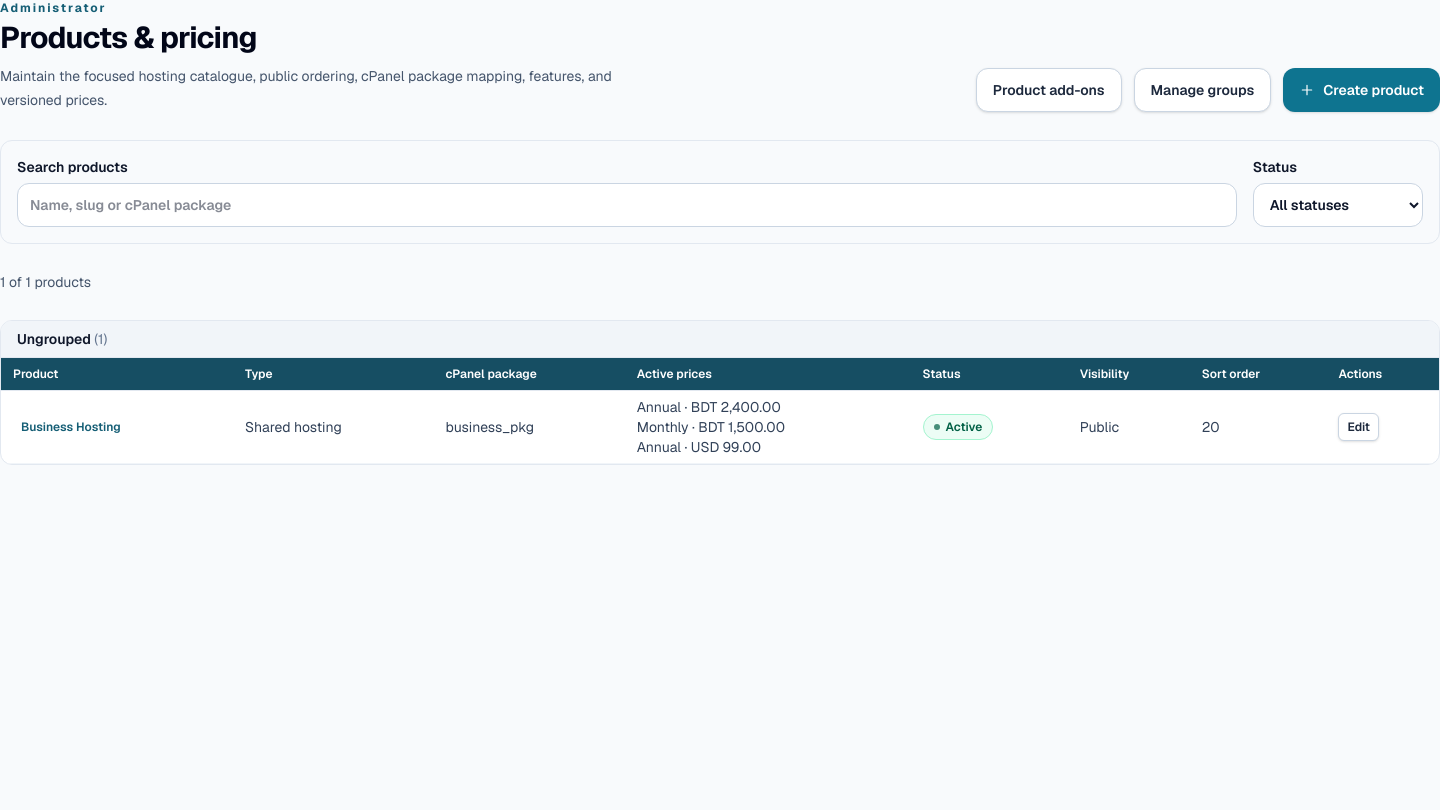
Test: product and pricing interfaces › loads active prices by period and currency without reusing retired or unmatched prices
The image size is (1440, 810).
Click the button "Business Hosting".
click(71, 427)  # box [13,413,129,441]
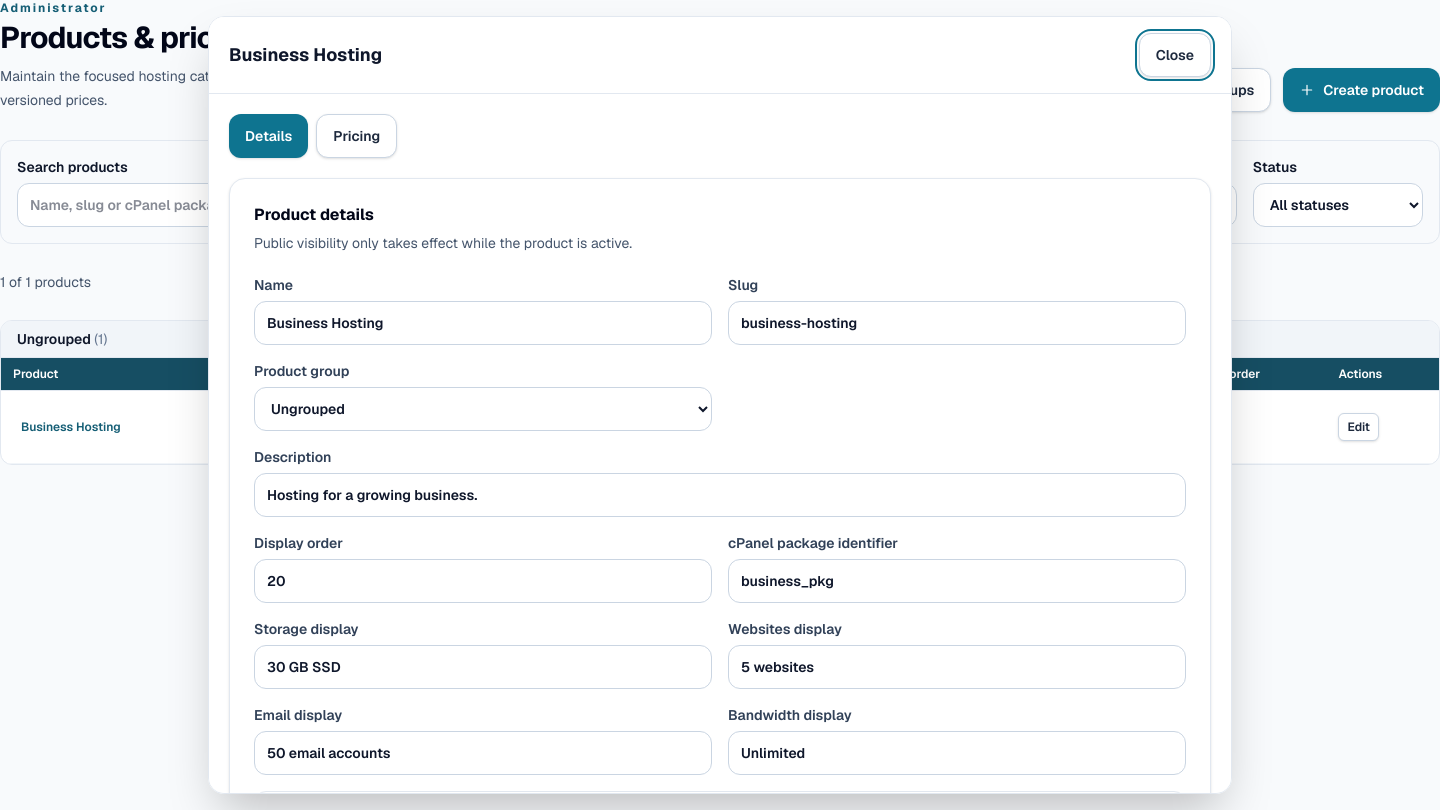
Click the button "Pricing".
click(357, 136)  # box [316,114,397,158]
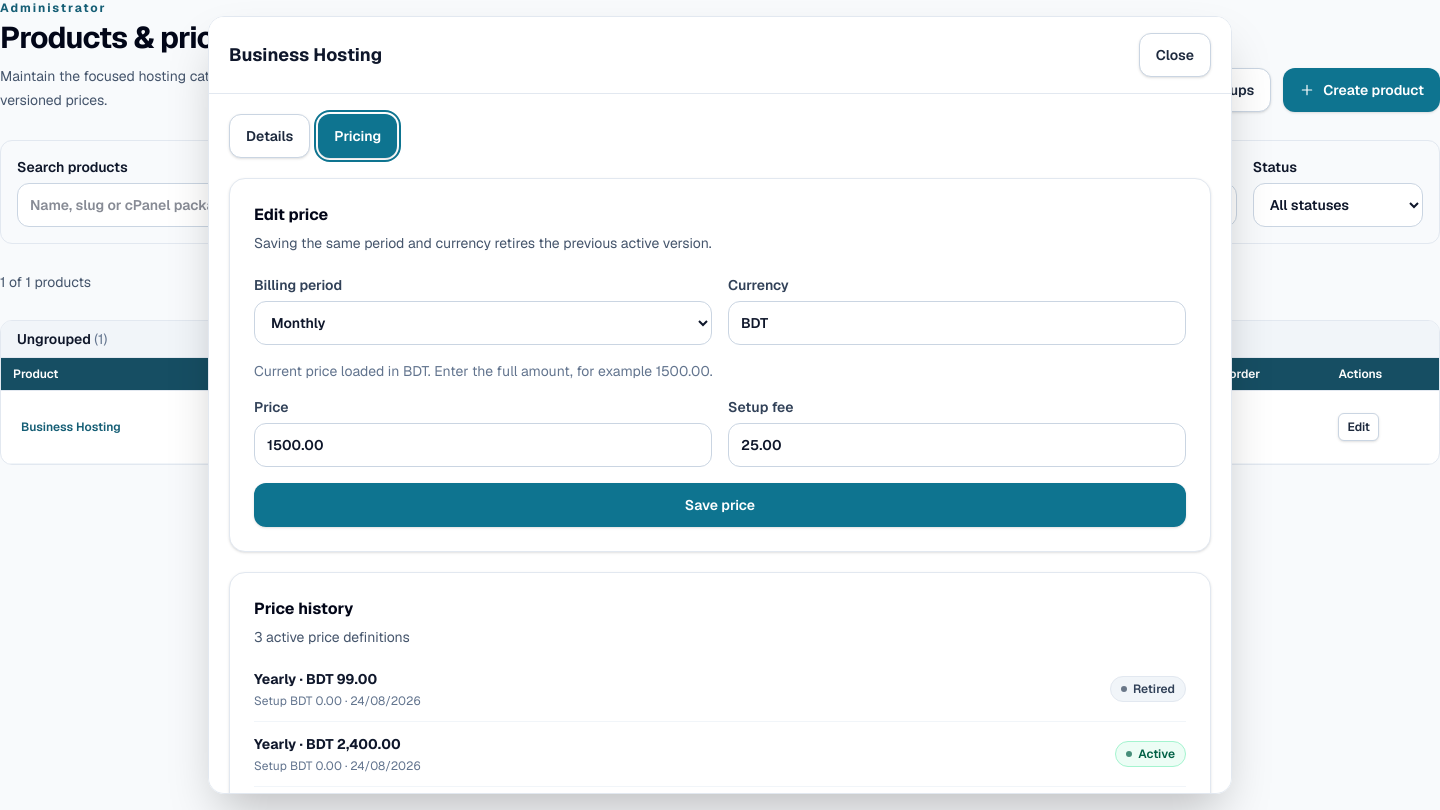
Result: the field labelled "Price" holds "1500.00" at [254,423,712,467]
Result: the field labelled "Setup fee" holds "25.00" at [728,423,1186,467]
Select "Yearly" in the dropdown labelled "Billing period" at (483, 323), box [254,301,712,345]
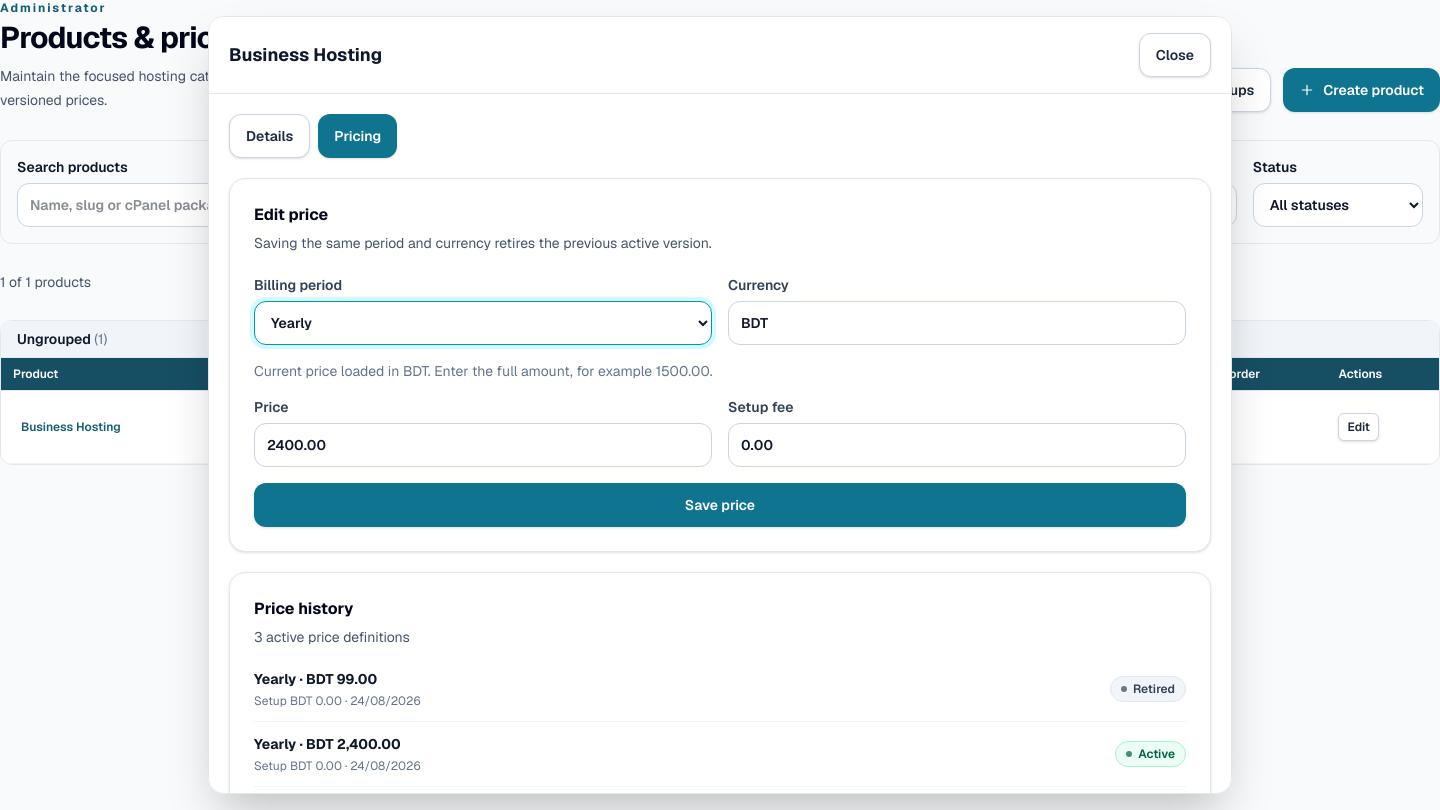
Result: the field labelled "Price" holds "2400.00" at [254,423,712,467]
Replace the text in the field labelled "Currency" with "USD" at (957, 323), box [728,301,1186,345]
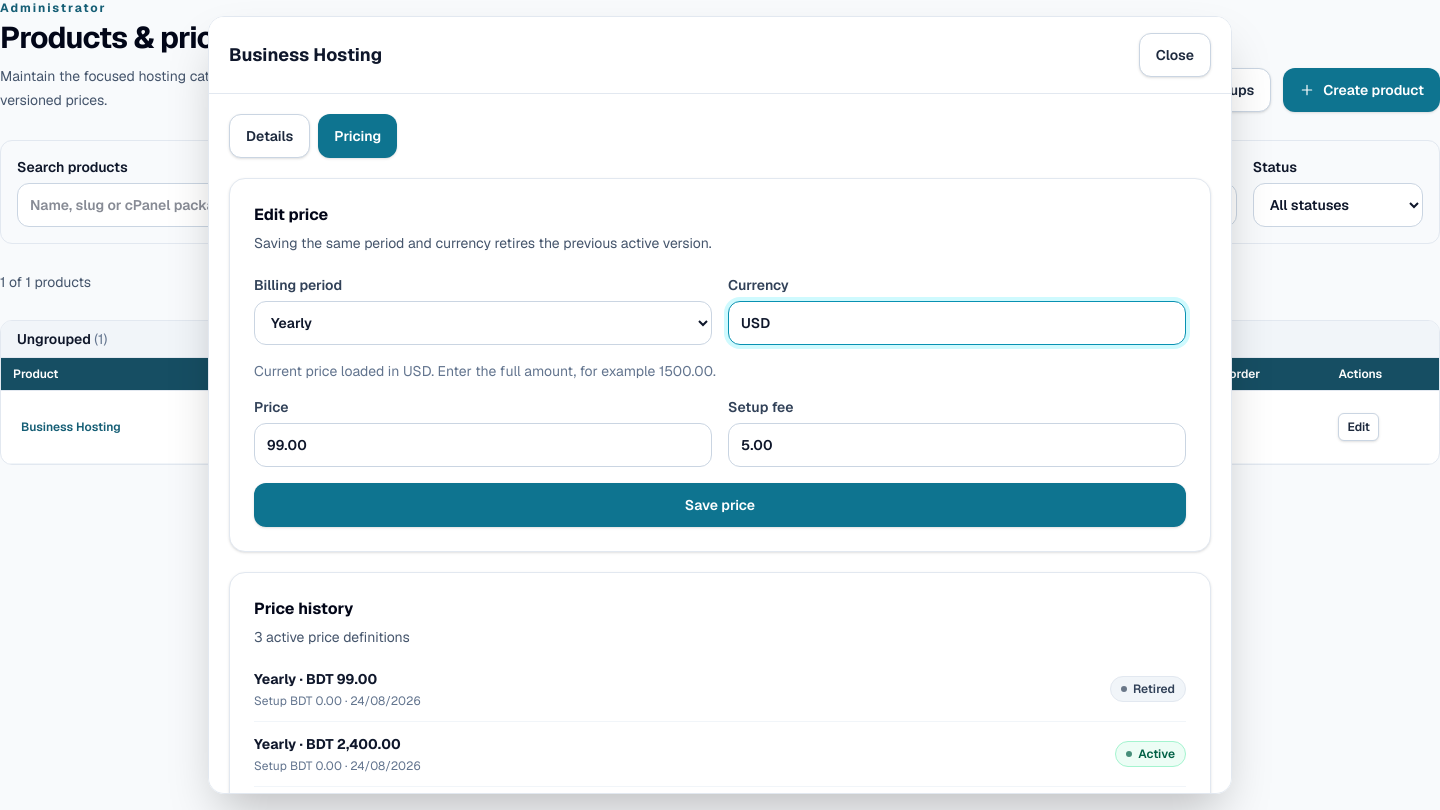
Result: the field labelled "Price" holds "99.00" at [254,423,712,467]
Result: the field labelled "Setup fee" holds "5.00" at [728,423,1186,467]
Select "Quarterly" in the dropdown labelled "Billing period" at (483, 323), box [254,301,712,345]
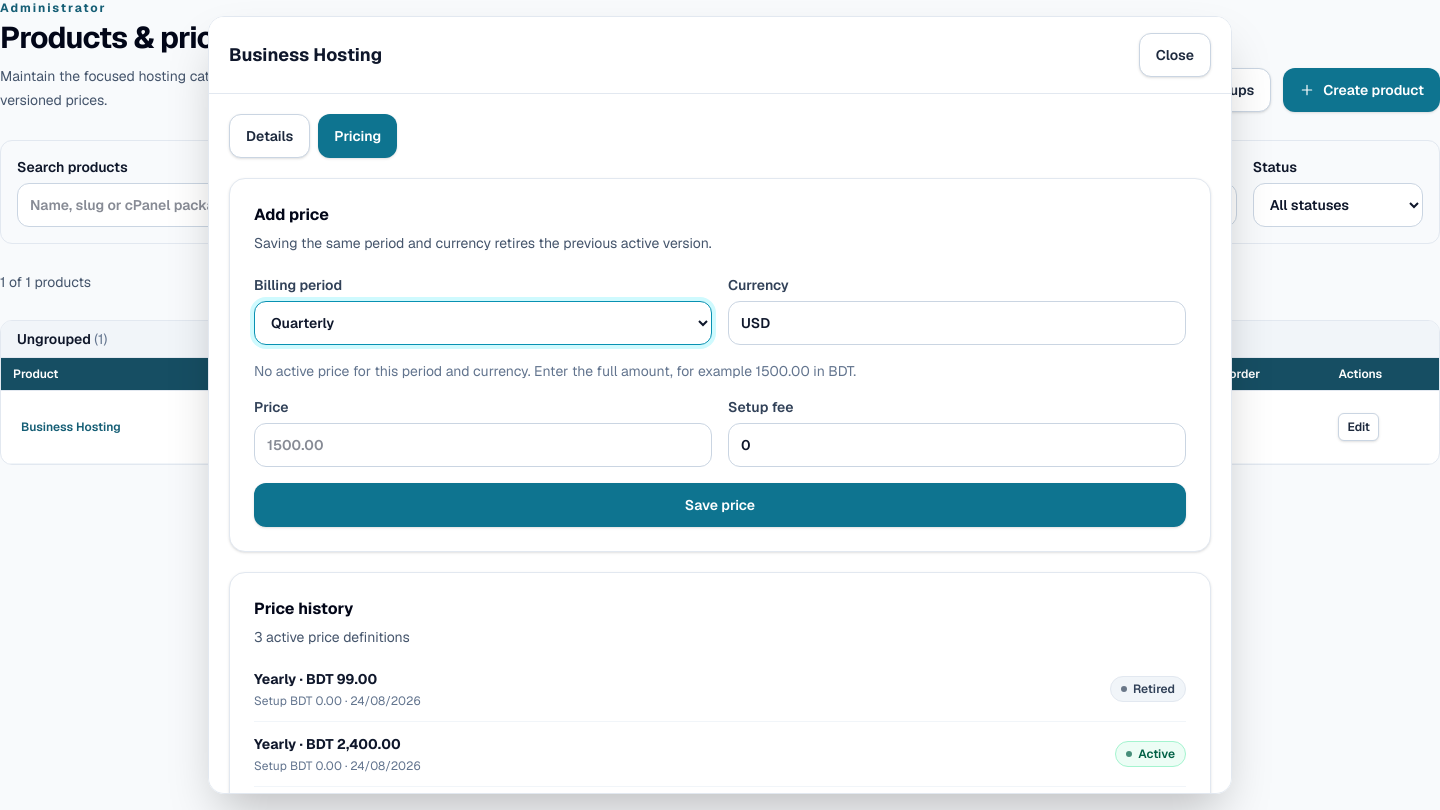
Result: the field labelled "Price" is empty at [254,423,712,467]
Result: the field labelled "Setup fee" holds "0" at [728,423,1186,467]
Result: the text "No active price for this period" is shown at [254,362,856,380]
